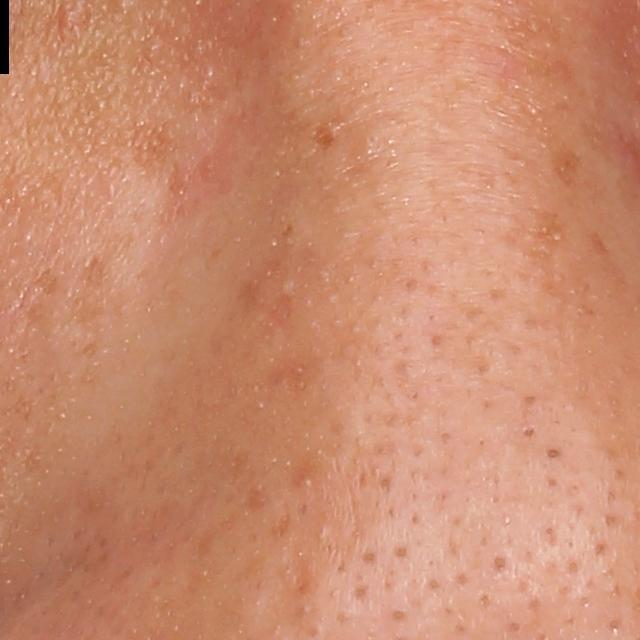comedo: (542, 441, 570, 465), (516, 421, 544, 445)
melasma: (250, 345, 330, 393), (128, 122, 185, 179), (555, 132, 582, 190), (307, 125, 337, 153)
